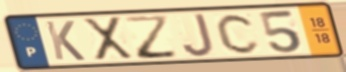5: (257, 8, 305, 55)
C: (214, 12, 263, 55)
J: (180, 11, 216, 59)
K: (42, 20, 88, 62)
X: (80, 15, 137, 63)
Z: (122, 13, 181, 61)
